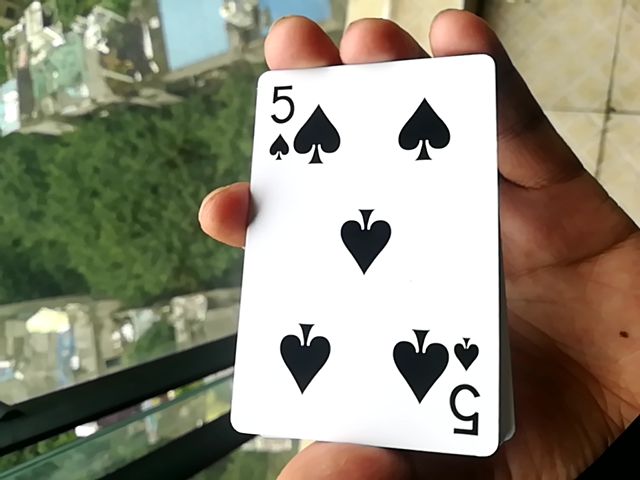ht 5: (224, 52, 501, 453)
